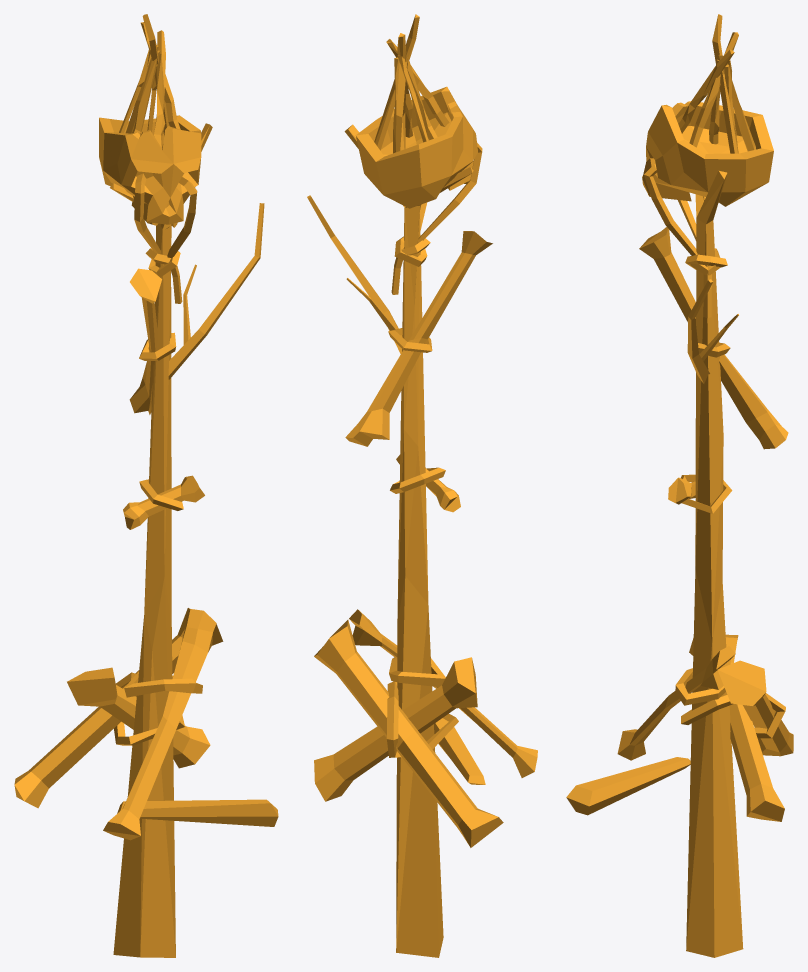
File: SM_Lamp_Skull_Fantasy.fbx
The picture shows the model from 3 angles, left to right: view 1: azimuth 30°, elevation 25°; view 2: azimuth 150°, elevation 25°; view 3: azimuth 270°, elevation 25°; orthographic projection.
Parts seen in each view (by area): view 1: lamp-skull-fantasy; view 2: lamp-skull-fantasy; view 3: lamp-skull-fantasy.
Boxes of the visible parts, box(x1,y1,x2,y2) form: lamp-skull-fantasy: box(14, 14, 278, 957); lamp-skull-fantasy: box(307, 14, 537, 957); lamp-skull-fantasy: box(566, 14, 793, 957).
Size of the model in its own units: 0.4045 by 1.64 by 0.3617.
